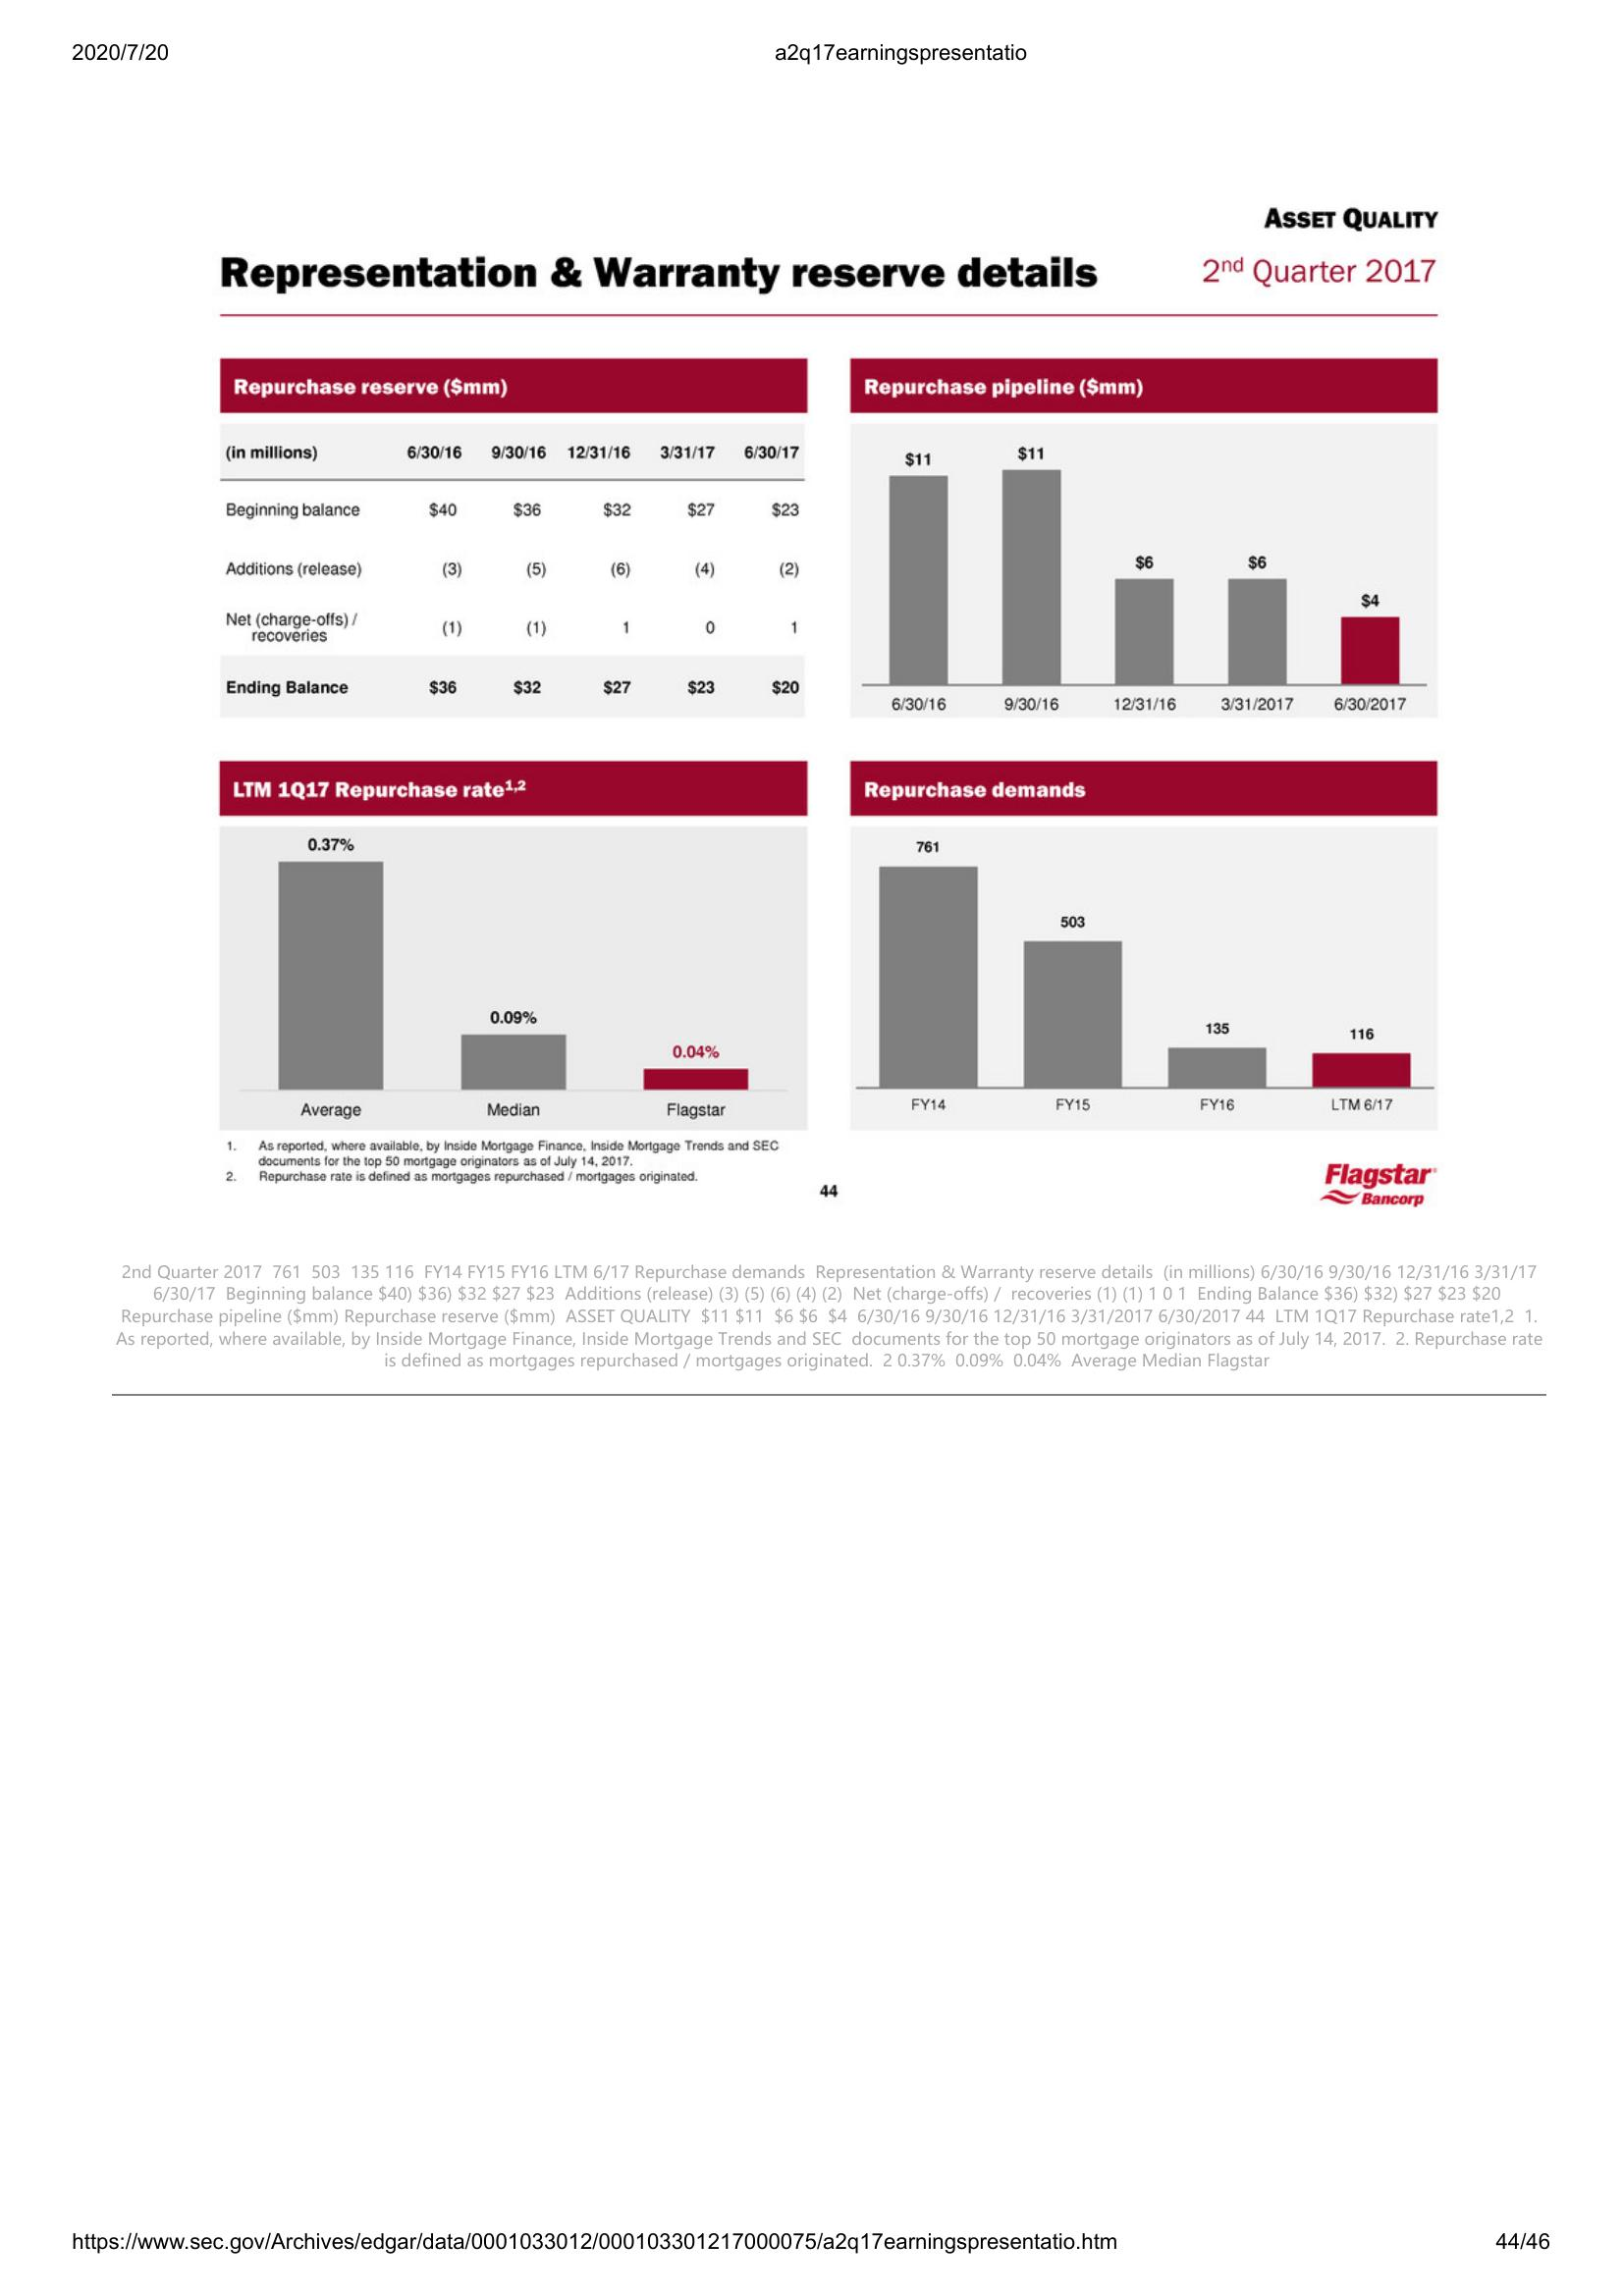table: (214, 353, 811, 718)
